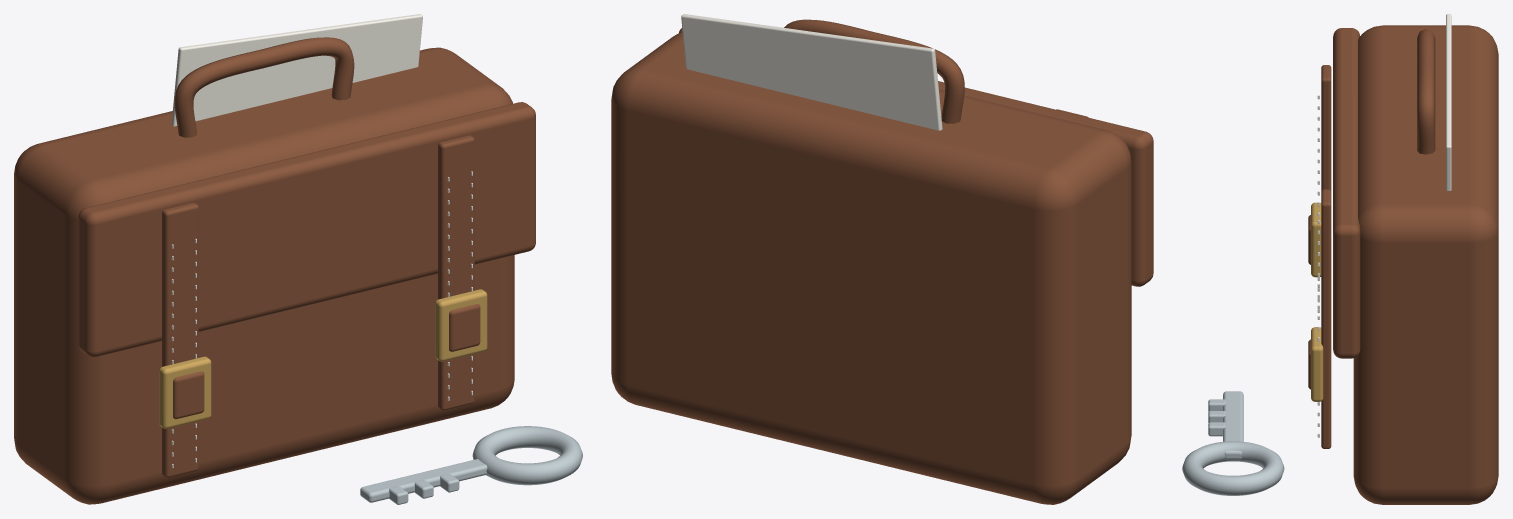
The model's file is personal.glb.
3 views of the same model, side by side, from view 1: azimuth 30°, elevation 25°; view 2: azimuth 150°, elevation 25°; view 3: azimuth 270°, elevation 25° (orthographic). The views are drawn at different scales.
Parts seen in each view (by area): view 1: InterestShield-personal-authored-v1; view 2: InterestShield-personal-authored-v1; view 3: InterestShield-personal-authored-v1.
Part boxes in pixels (x1,y1,x2,y2): InterestShield-personal-authored-v1: (14, 14, 582, 504); InterestShield-personal-authored-v1: (611, 14, 1153, 504); InterestShield-personal-authored-v1: (1182, 14, 1498, 504).
Bounding box in the file's own units: 3.2 × 2.7 × 2.11.
